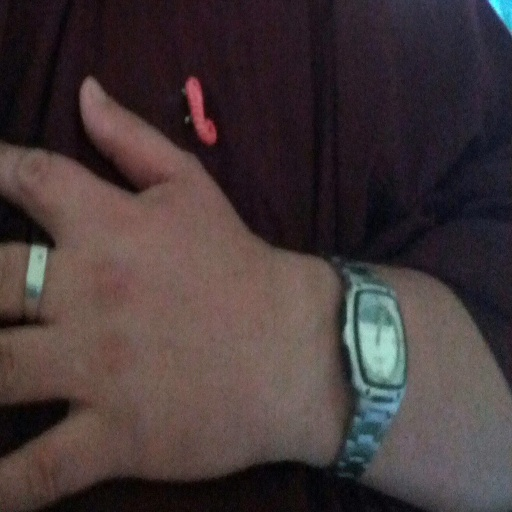hand: (0, 127, 407, 508)
